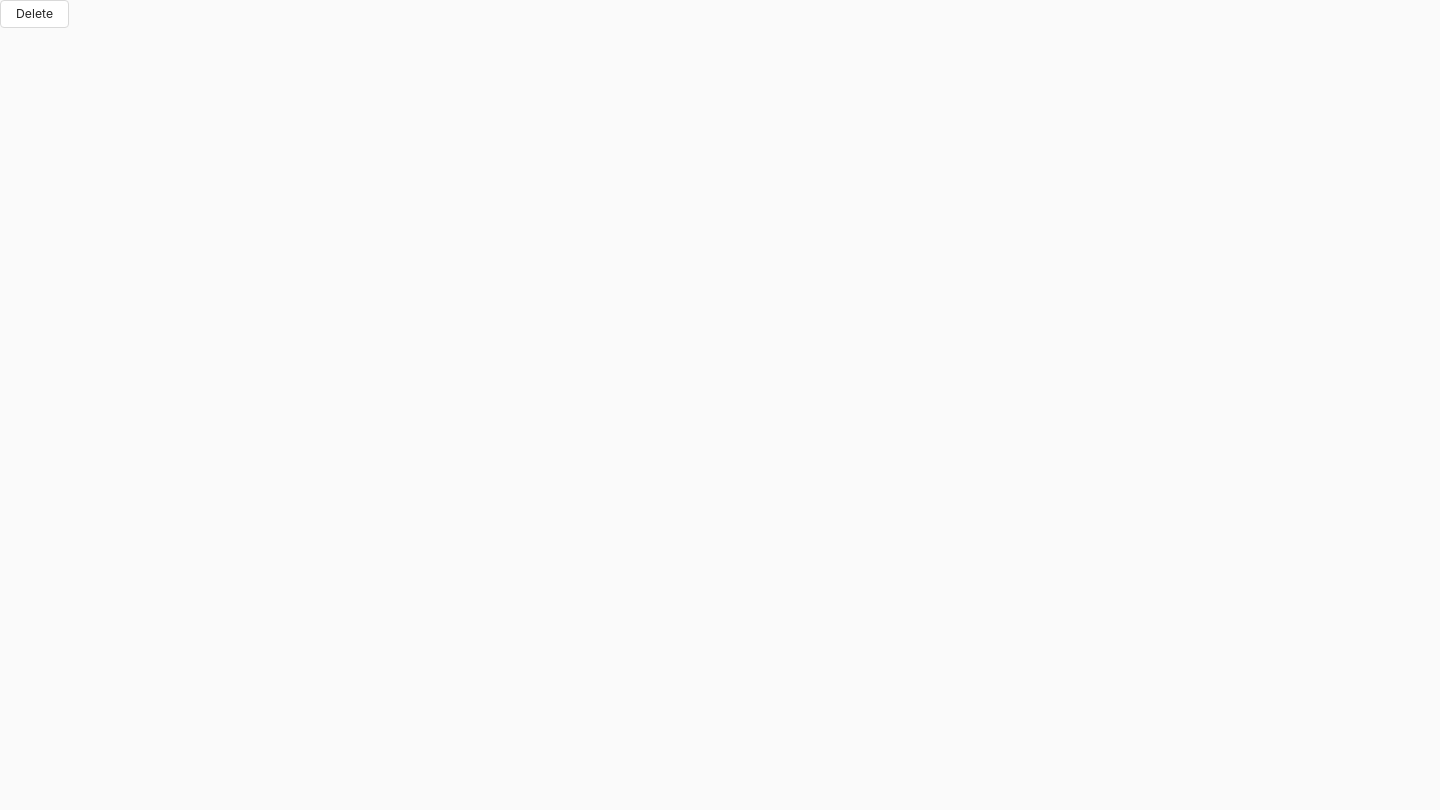
Test case: ConfirmButton › stays busy until the promise settles and shows a failure
Later steps or results of the test are not shown.
Click the button "Delete": click(35, 14) [0,0,69,28]
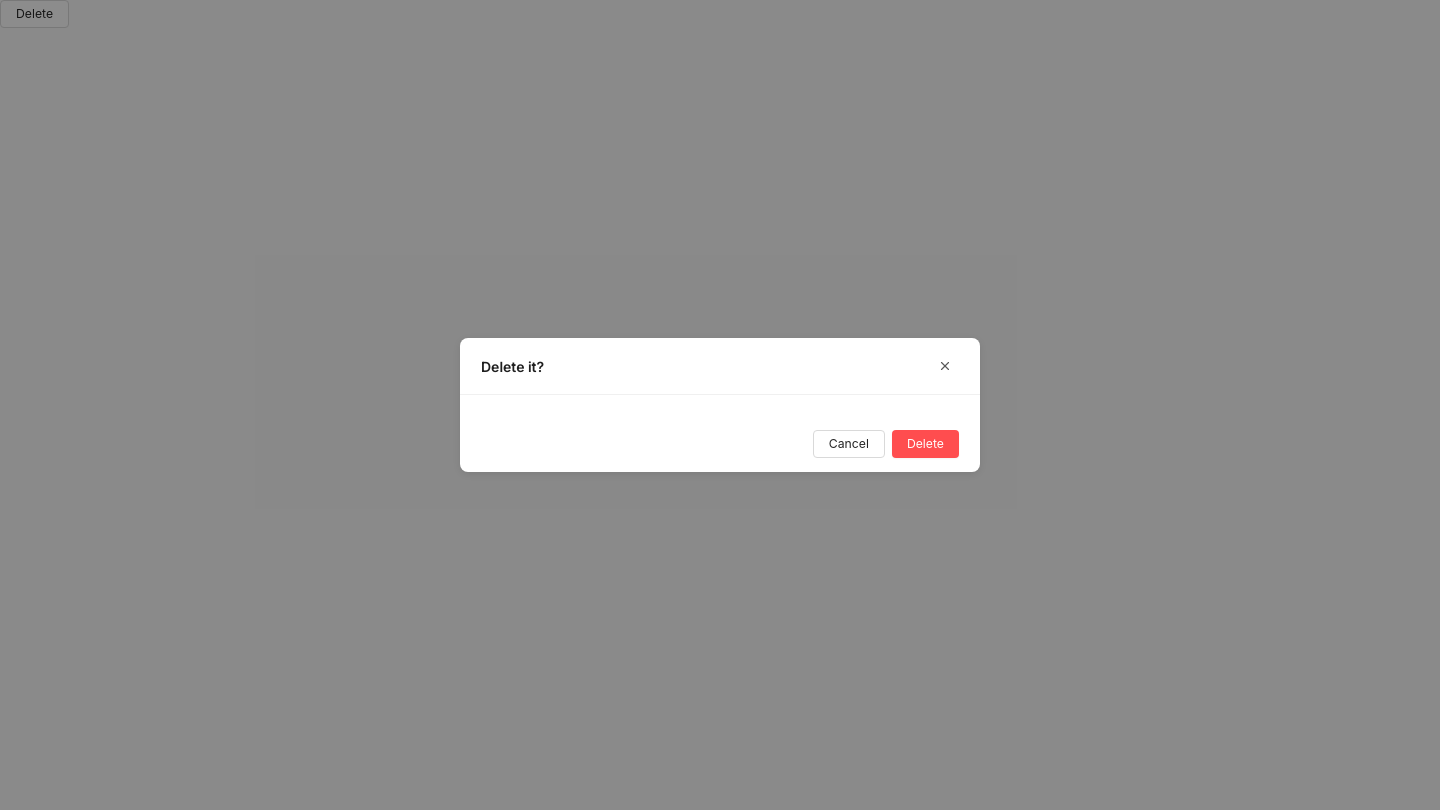
Click the button "Delete": click(925, 444) [892,430,959,458]
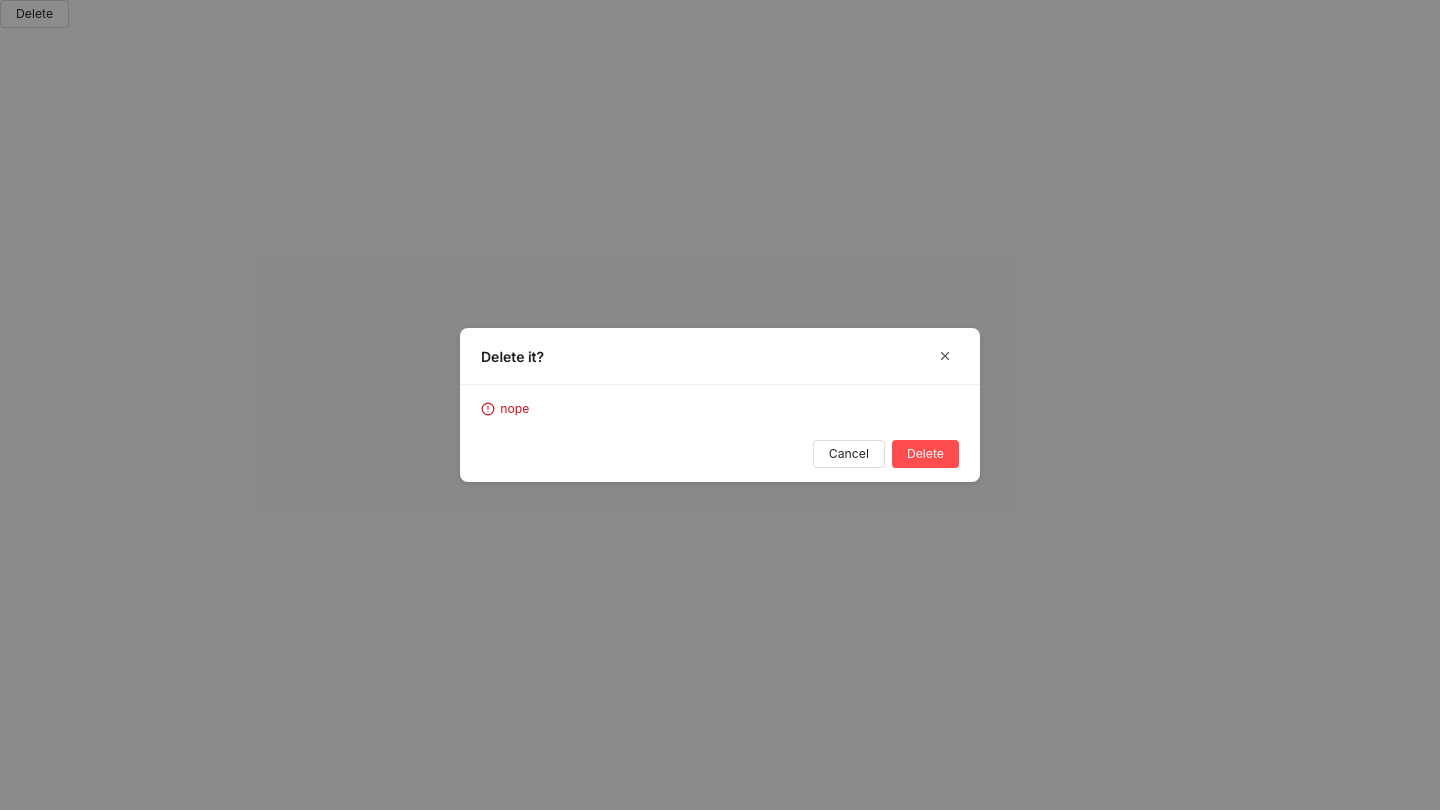
Expected: the dialog "Delete it?" is shown, [460,328,980,482]
Expected: the message reads "nope", [500,401,530,416]
